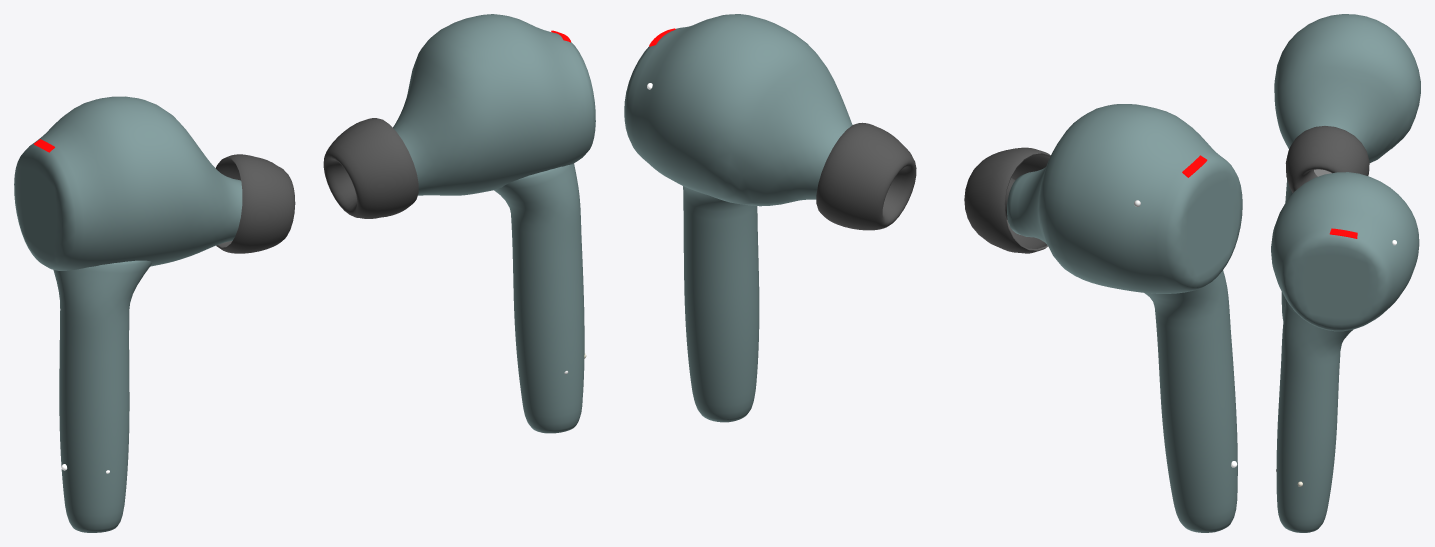
Rendered from Earbuds.gltf.
3 views of the same model, side by side, from view 1: azimuth 30°, elevation 25°; view 2: azimuth 150°, elevation 25°; view 3: azimuth 270°, elevation 25° (orthographic). The views are drawn at different scales.
Visible parts, largest first — view 1: Earbuds_top_remesh_1, Earbuds_top_remesh, Earbuds_buttom_remesh_1, Earbuds_buttom_remesh, Lathe, Lathe_1; view 2: Earbuds_top_remesh, Earbuds_top_remesh_1, Earbuds_buttom_remesh_1, Earbuds_buttom_remesh, Lathe, Lathe_1; view 3: Earbuds_top_remesh, Earbuds_top_remesh_1, Earbuds_buttom_remesh, Lathe_1, Extrude.
Part boxes in pixels (x1,y1,x2,y2): Earbuds_top_remesh_1: (14, 96, 242, 270); Earbuds_top_remesh: (393, 14, 595, 195); Earbuds_buttom_remesh_1: (53, 260, 151, 532); Earbuds_buttom_remesh: (494, 163, 584, 433); Lathe: (323, 118, 418, 218); Lathe_1: (215, 154, 295, 253); Earbuds_top_remesh: (624, 14, 852, 206); Earbuds_top_remesh_1: (1007, 104, 1242, 293); Earbuds_buttom_remesh_1: (1144, 270, 1237, 532); Earbuds_buttom_remesh: (683, 186, 759, 422); Lathe: (816, 122, 916, 230); Lathe_1: (964, 147, 1050, 253); Earbuds_top_remesh: (1271, 172, 1419, 331); Earbuds_top_remesh_1: (1274, 14, 1420, 162); Earbuds_buttom_remesh: (1276, 299, 1352, 532); Lathe_1: (1285, 126, 1369, 192); Extrude: (1329, 228, 1357, 238).
Bounding box in the file's own units: 724 × 525 × 209.
